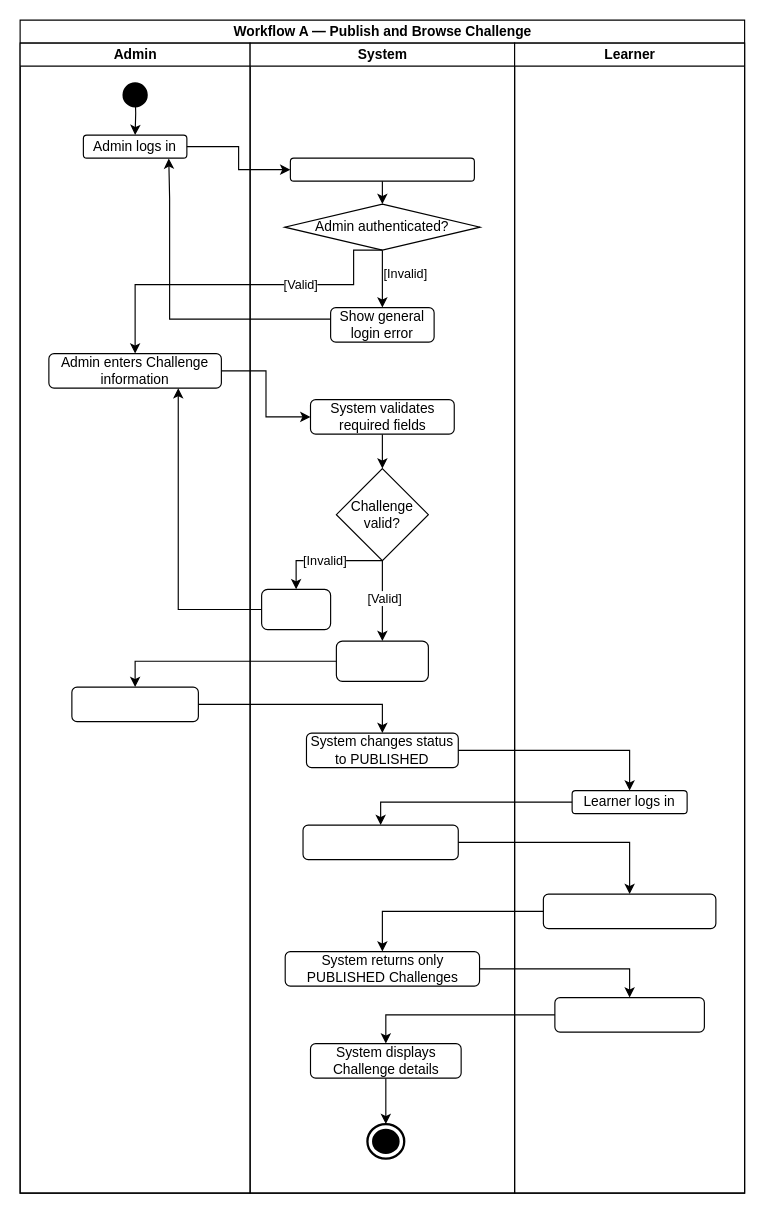
Some shapes in this 765 by 1213 pixel diagram are drawn without their labels. The box of each missing label's shape, as (x1, y1, x2, y2) in pixels:
Admin publishes Challenge: (71, 686, 198, 722)
Learner opens Challenge browsing page: (542, 893, 716, 929)
Learner selects a Challenge: (554, 996, 704, 1032)
Show field errors: (260, 588, 331, 630)
System authenticates Admin: (289, 157, 474, 181)
System authenticates Learner: (302, 824, 458, 860)
System saves Challenge: (335, 640, 428, 681)
